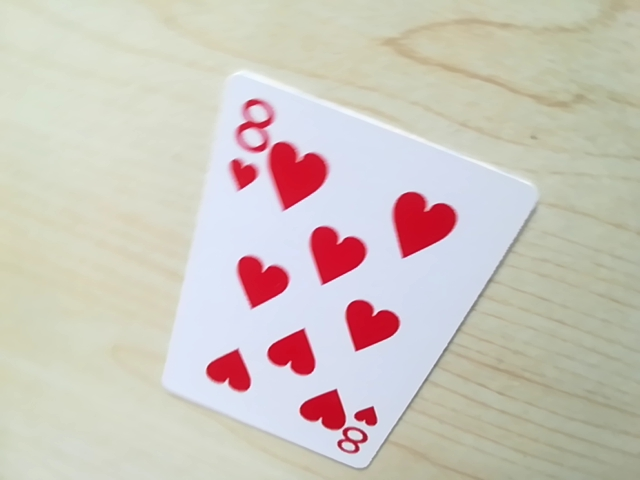hx 8: (226, 88, 271, 202), (334, 404, 396, 459)
